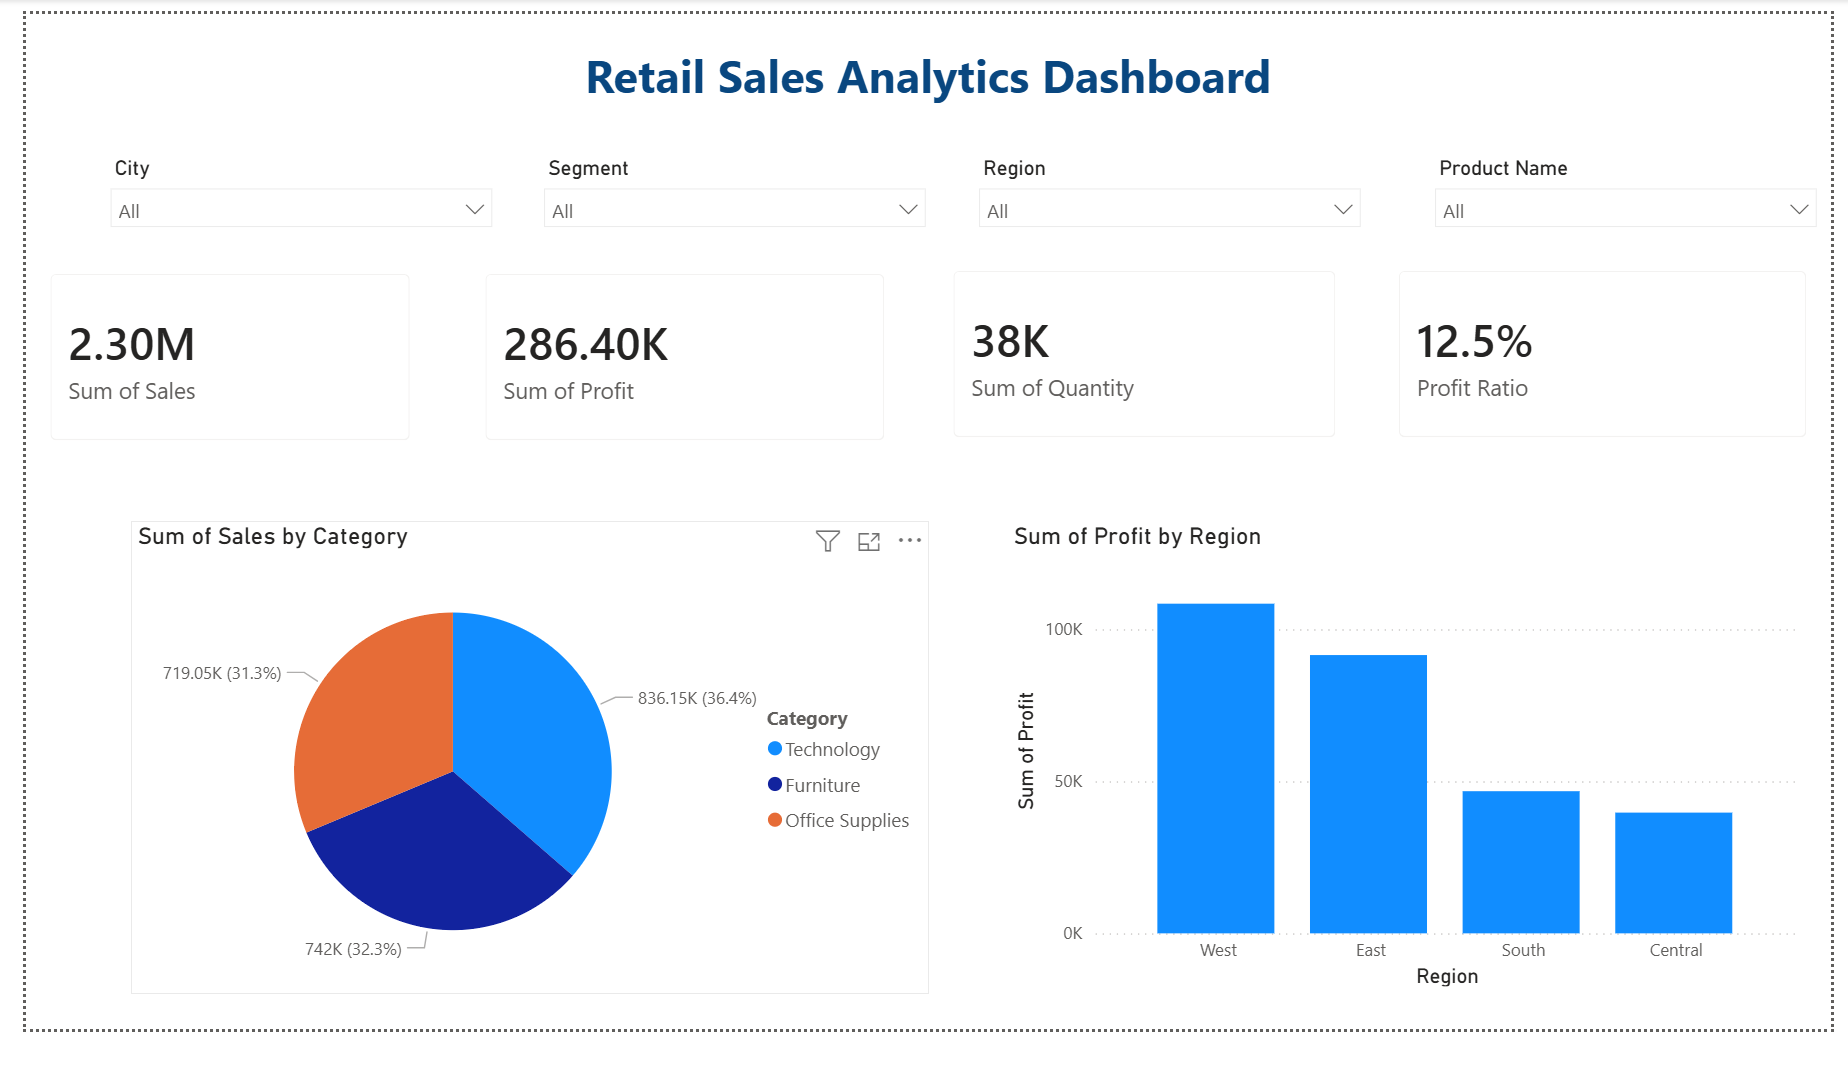

The dashboard page shown, as its layout file describes it:
{"tool":"powerbi","page":{"name":"Page 1","canvas":[1280,720],"ordinal":0},"visuals":[{"type":"pieChart","fields":{"Y":["Sum(superstore xls.Sales)"],"Category":["superstore xls.Category"]},"box":[0,335.6,566.7,334.4],"z":0},{"type":"cardVisual","fields":{"Data":["Sum(superstore xls.Profit)"]},"box":[425.6,112.8,408.1,152.3],"z":1000},{"type":"cardVisual","fields":{"Data":["Sum(superstore xls.Quantity)"]},"box":[873.3,112.8,388.4,152.3],"z":2000},{"type":"clusteredColumnChart","fields":{"Category":["superstore xls.Region"],"Y":["Sum(superstore xls.Profit)"]},"box":[638.9,335.6,566.7,334.4],"z":3000},{"type":"cardVisual","fields":{"Data":["Sum(superstore xls.Sales)"]},"box":[0,113.3,391.1,152.2],"z":4000},{"type":"textbox","box":[0,32.6,1280.2,80.2],"z":5000}]}

Visuals, with their boxes on the page's 1280x720 design canvas (x1, y1, x2, y2). These are canvas units, not pixel positions in the 1848x1081 screenshot, which may show the page scaled, cropped or inside an application window:
pieChart - Sum(superstore xls.Sales) x superstore xls.Category: [0, 336, 567, 670]
cardVisual - Sum(superstore xls.Profit): [426, 113, 834, 265]
cardVisual - Sum(superstore xls.Quantity): [873, 113, 1262, 265]
clusteredColumnChart - superstore xls.Region x Sum(superstore xls.Profit): [639, 336, 1206, 670]
cardVisual - Sum(superstore xls.Sales): [0, 113, 391, 266]
textbox: [0, 33, 1280, 113]
